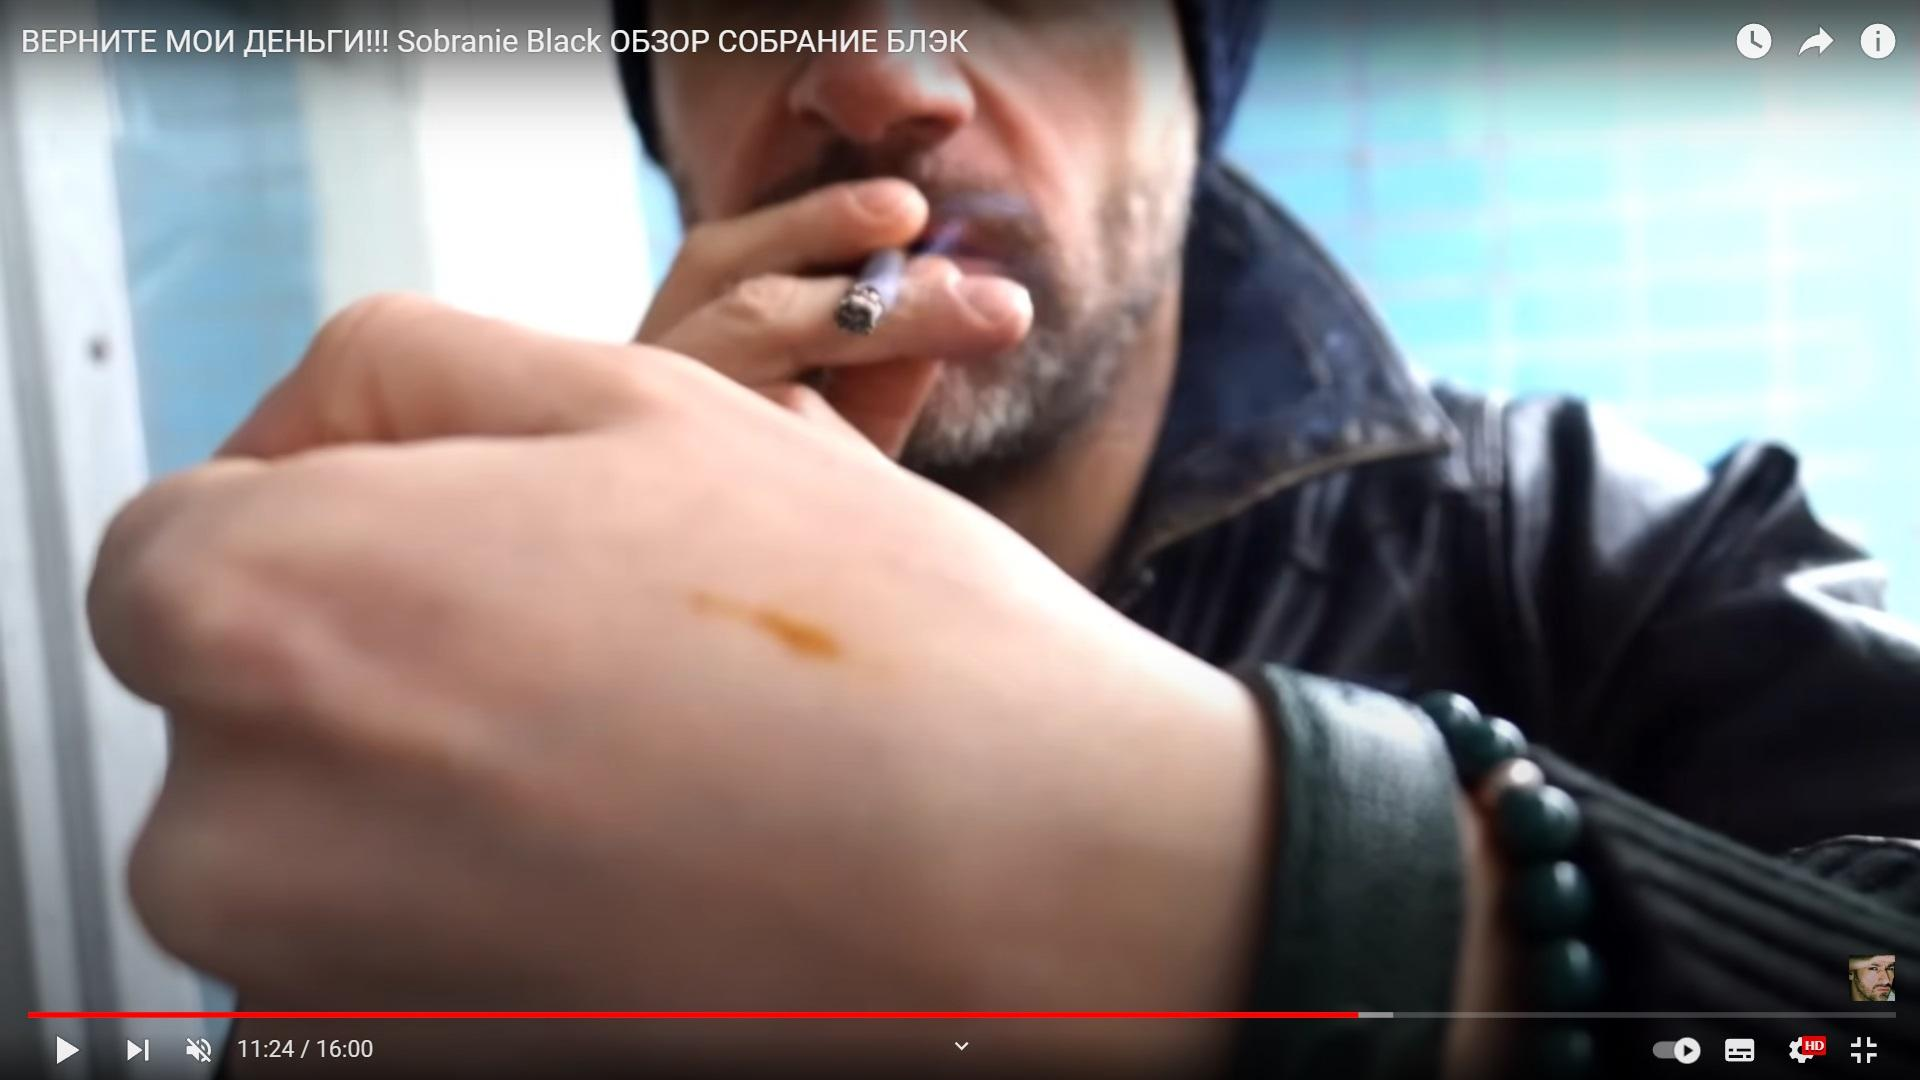cigarette: (836, 248, 907, 334)
